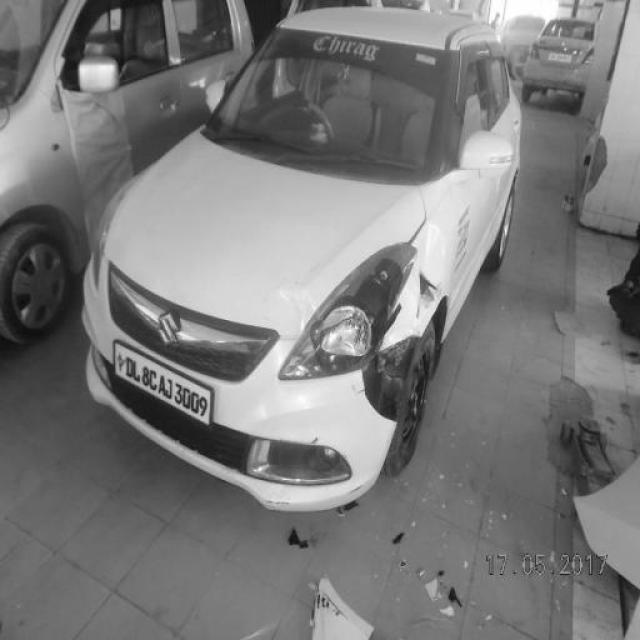missing: (361, 332, 423, 428)
tear: (416, 269, 443, 320)
